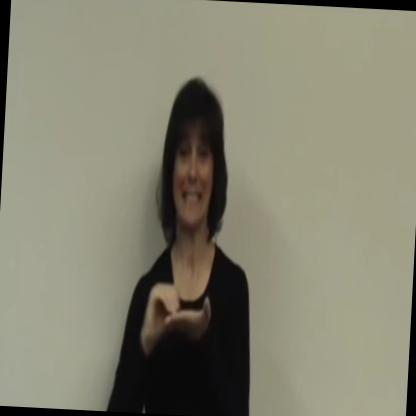ExcuseMe: (138, 266, 217, 376)
